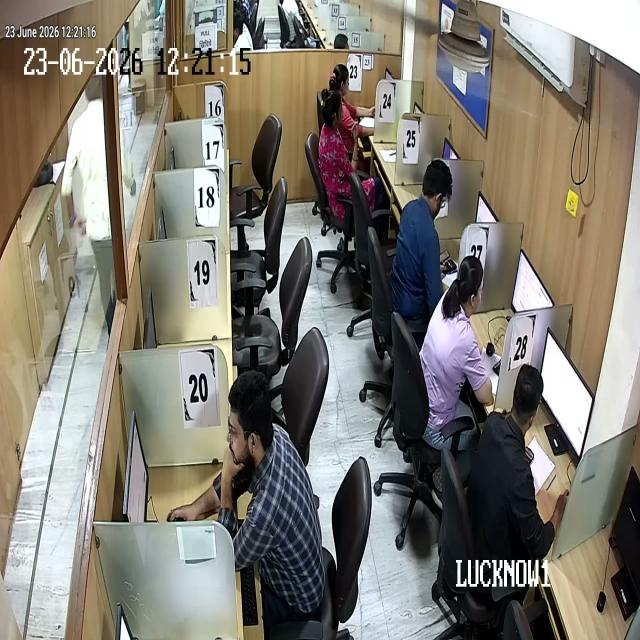phone: (438, 246, 451, 268)
